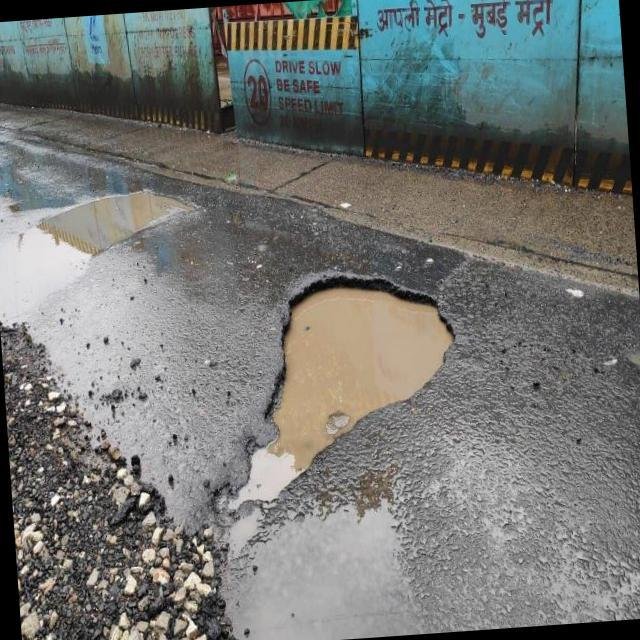Pothole: (211, 278, 453, 549)
